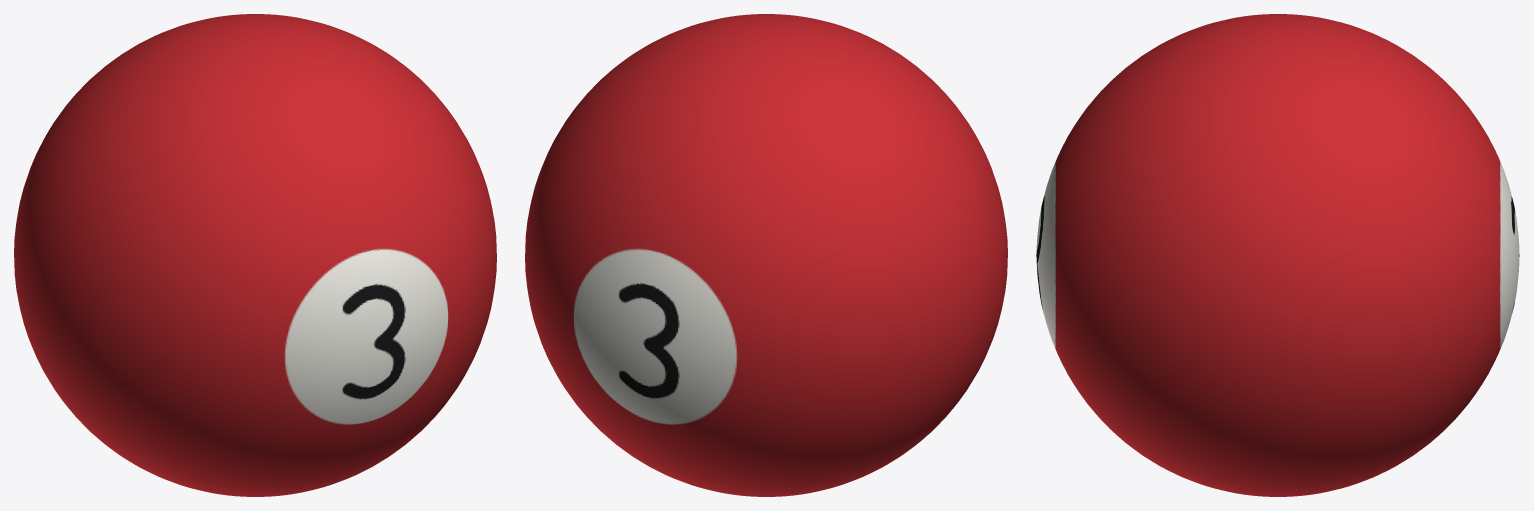
The model's file is ball-03.gltf.
3 renders of one model, left to right at view 1: azimuth 30°, elevation 25°; view 2: azimuth 150°, elevation 25°; view 3: azimuth 270°, elevation 25°, orthographic.
Visible parts, largest first — view 1: Ball_03; view 2: Ball_03; view 3: Ball_03.
Part boxes in pixels (x1,y1,x2,y2): Ball_03: (14, 14, 496, 496); Ball_03: (525, 14, 1007, 496); Ball_03: (1036, 14, 1519, 496).
Bounding box in the file's own units: 0.1 × 0.1 × 0.1.
1 material, 1 textured.
